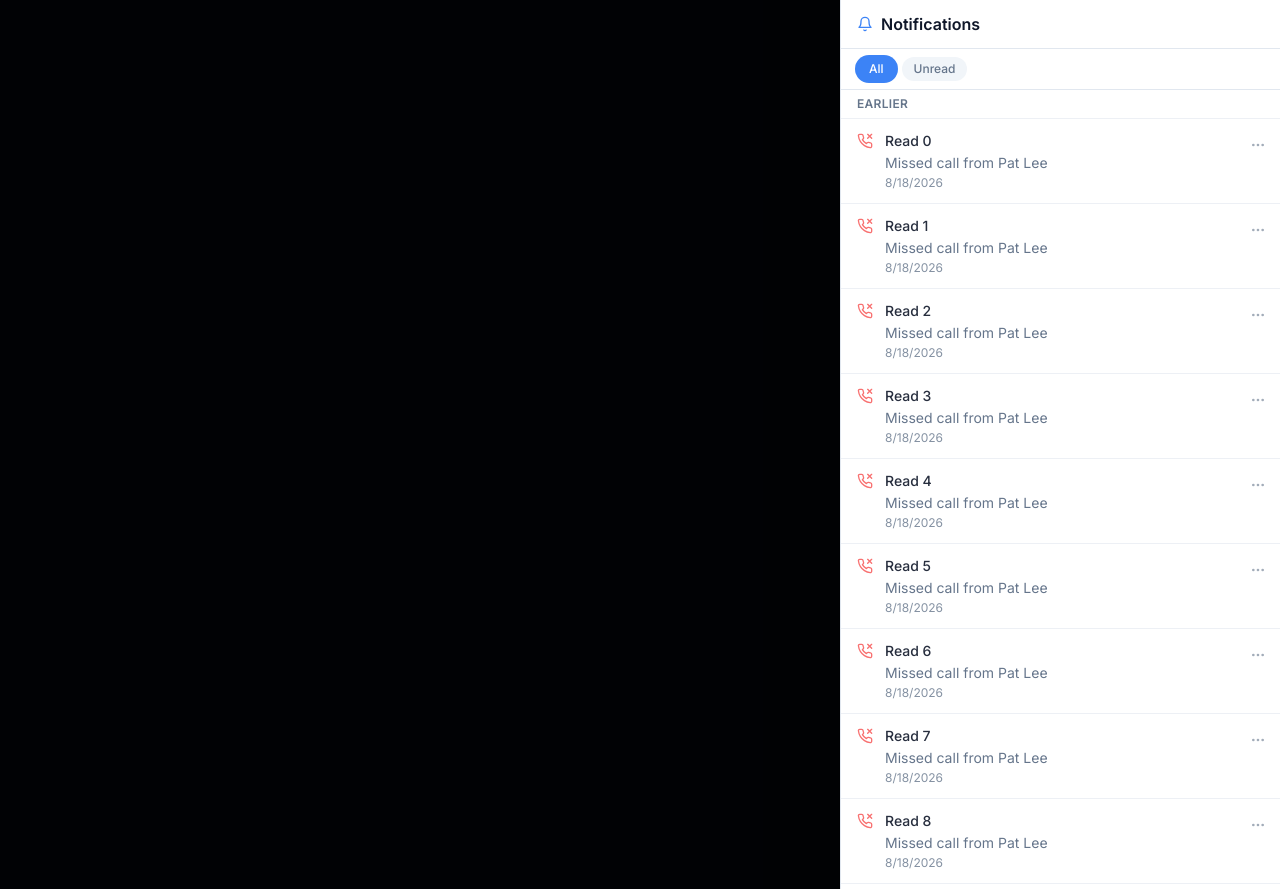
corrective pass — Unread filter/page boundary › still shows the true no-unread state when the authoritative count is exactly zero
The image size is (1280, 889).
Click the button "Unread" at {"x": 935, "y": 69}, box [902,57,968,81]
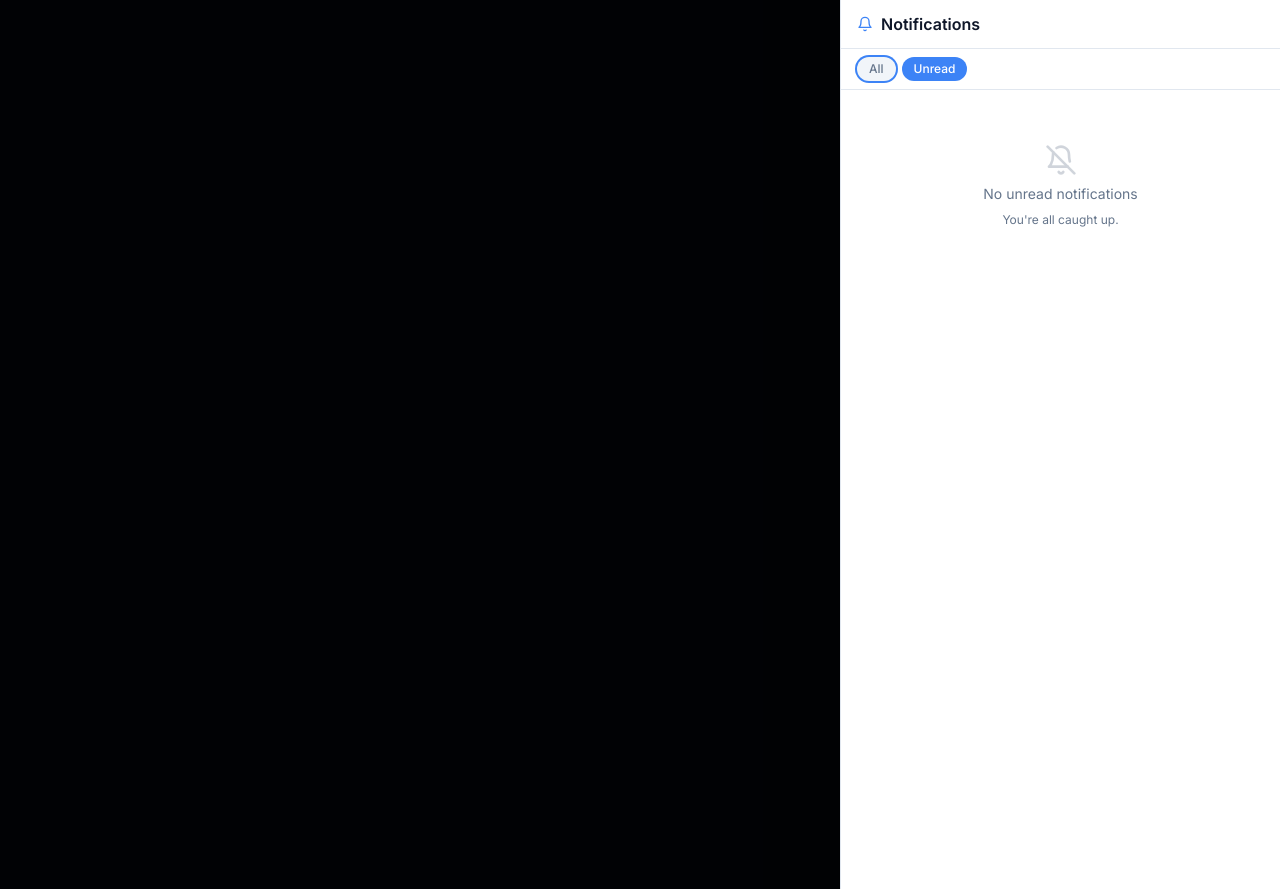
Expected: the text "No unread notifications" is shown, [983,184,1138,204]
